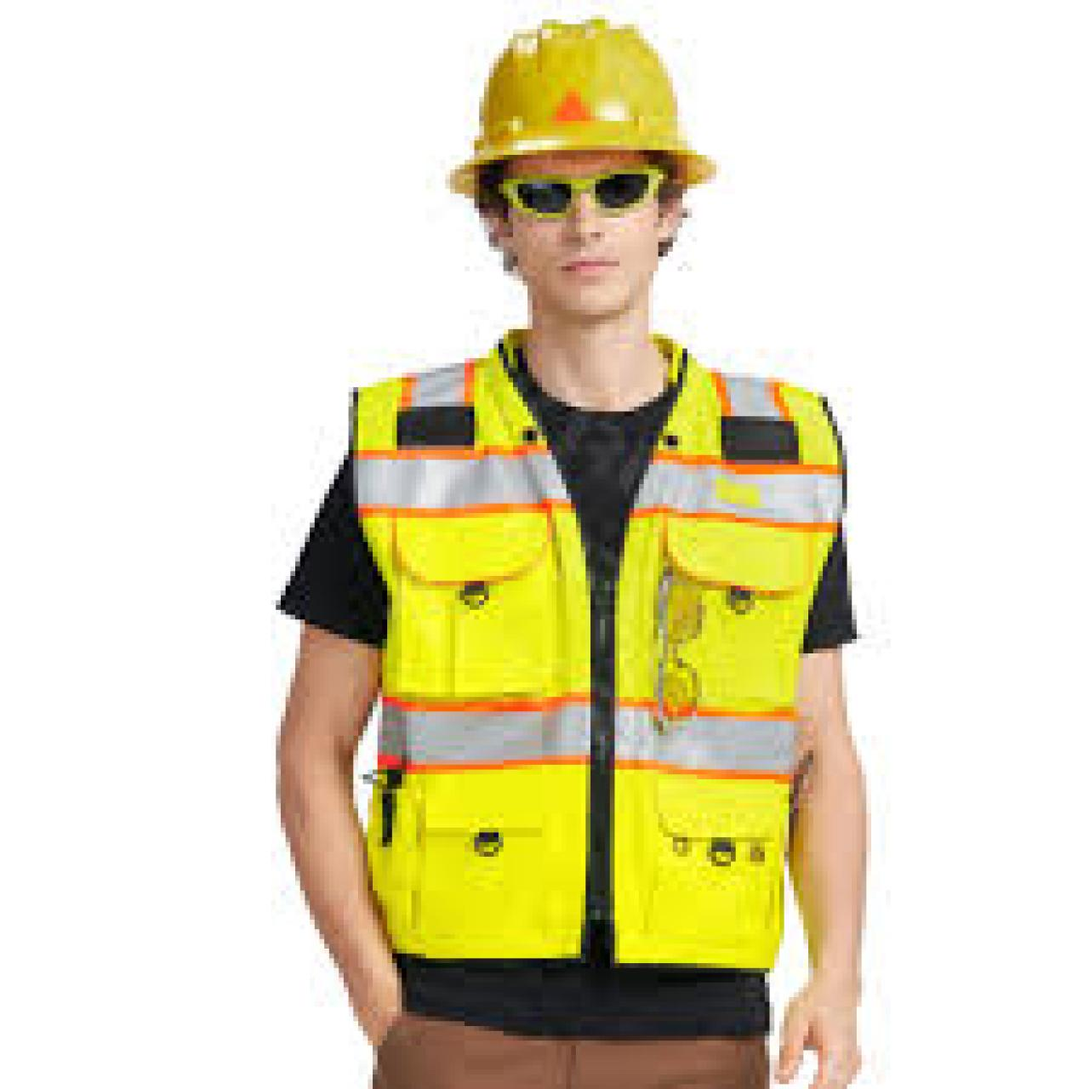Person: (248, 0, 893, 1089)
Safety_Vest: (326, 306, 862, 1022)
